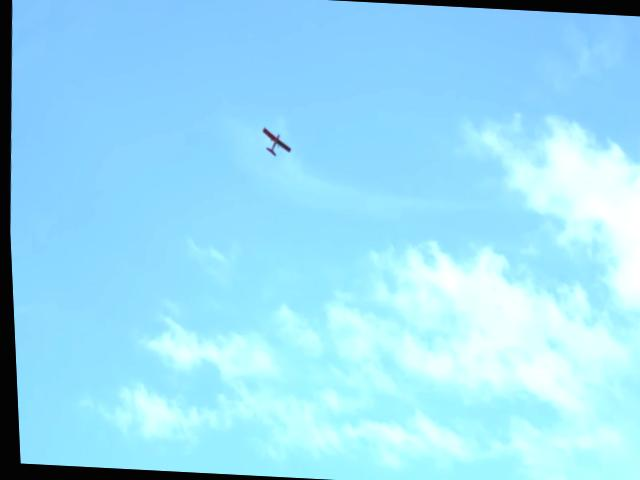plane: (260, 128, 292, 160)
